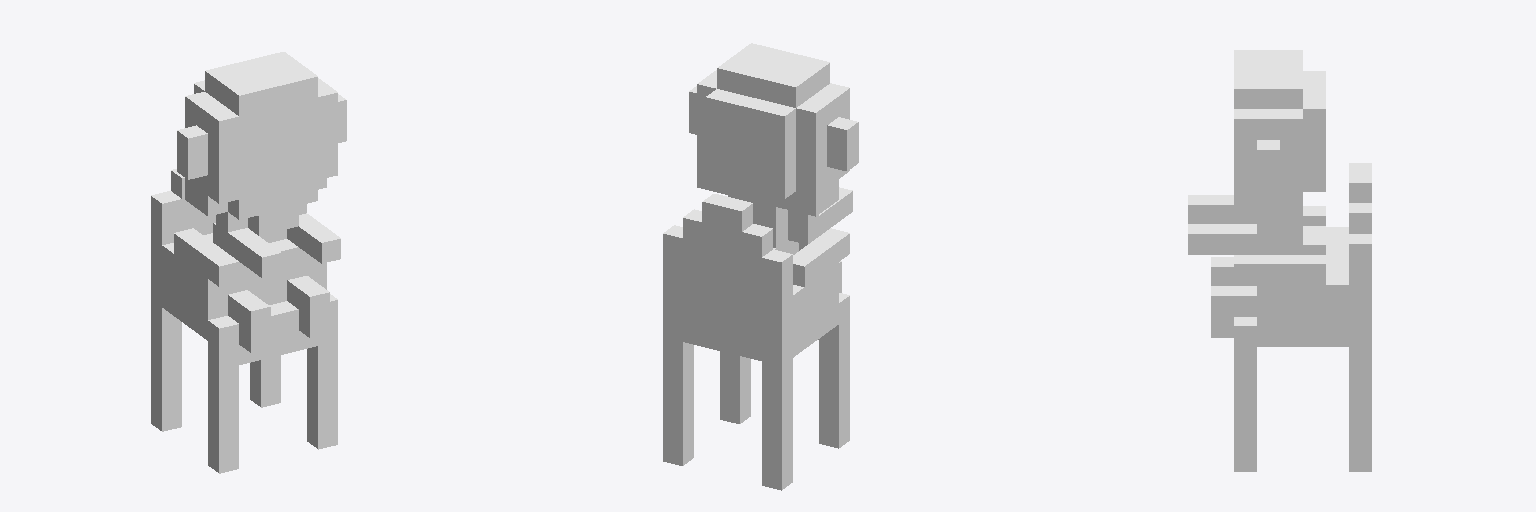
Rendered from obj_chair_baby.obj.
3 renders of one model, left to right at view 1: azimuth 30°, elevation 25°; view 2: azimuth 150°, elevation 25°; view 3: azimuth 270°, elevation 25°, orthographic.
Visible parts, largest first — view 1: obj_chair_baby; view 2: obj_chair_baby; view 3: obj_chair_baby.
Part boxes in pixels (bbox=[...]): obj_chair_baby: bbox=[151, 52, 346, 473]; obj_chair_baby: bbox=[663, 43, 858, 490]; obj_chair_baby: bbox=[1188, 50, 1371, 471].
Bounding box in the file's own units: 8 × 18 × 8.